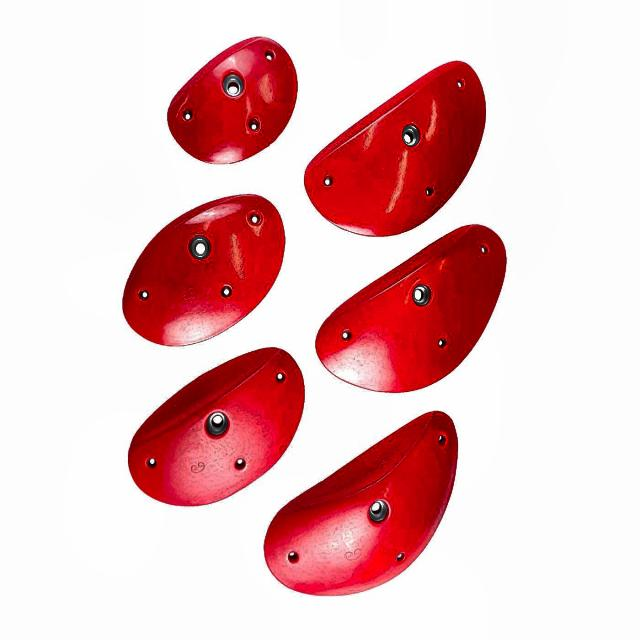Hold: (265, 410, 466, 598), (301, 64, 486, 233), (312, 232, 503, 389), (129, 344, 306, 510), (116, 196, 277, 346), (164, 36, 298, 164)
